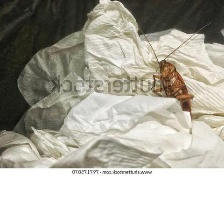tissue: (0, 0, 224, 167)
